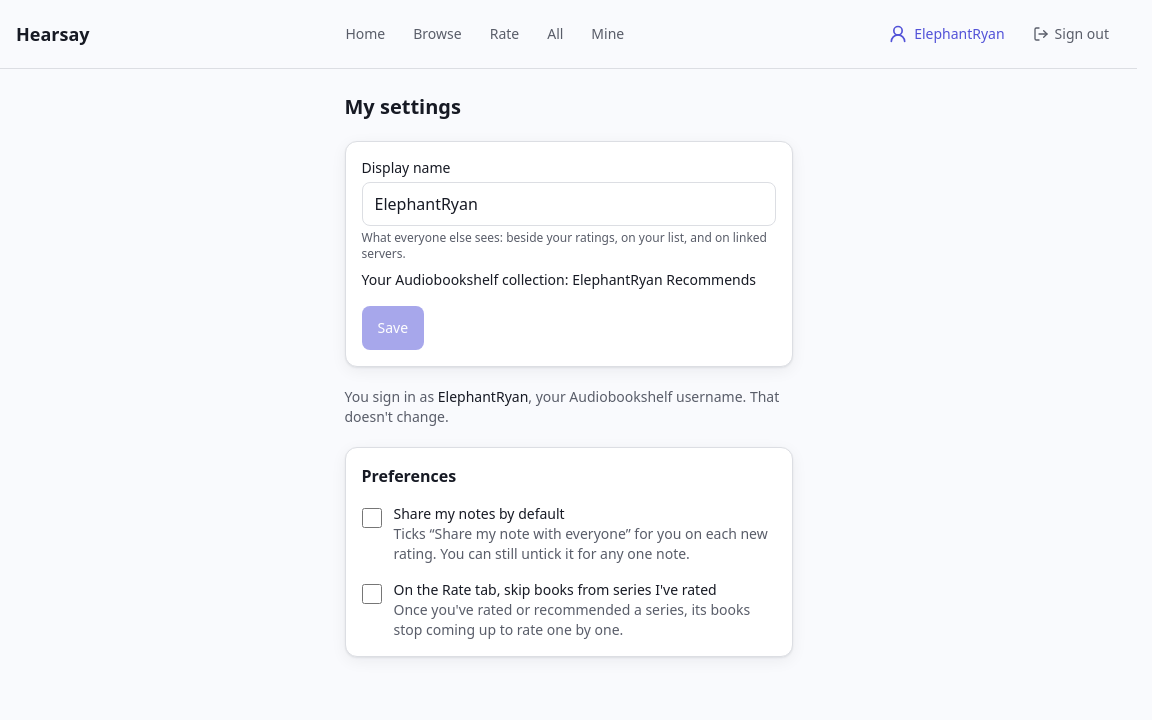
the settings page › changes the name everyone sees, and shows the collection it names
Expected: the button "Save" is disabled, [362,306,424,350]
Replace the text in the field labelled "Display name" with "Ryan" at (568, 204), box [362,182,776,226]
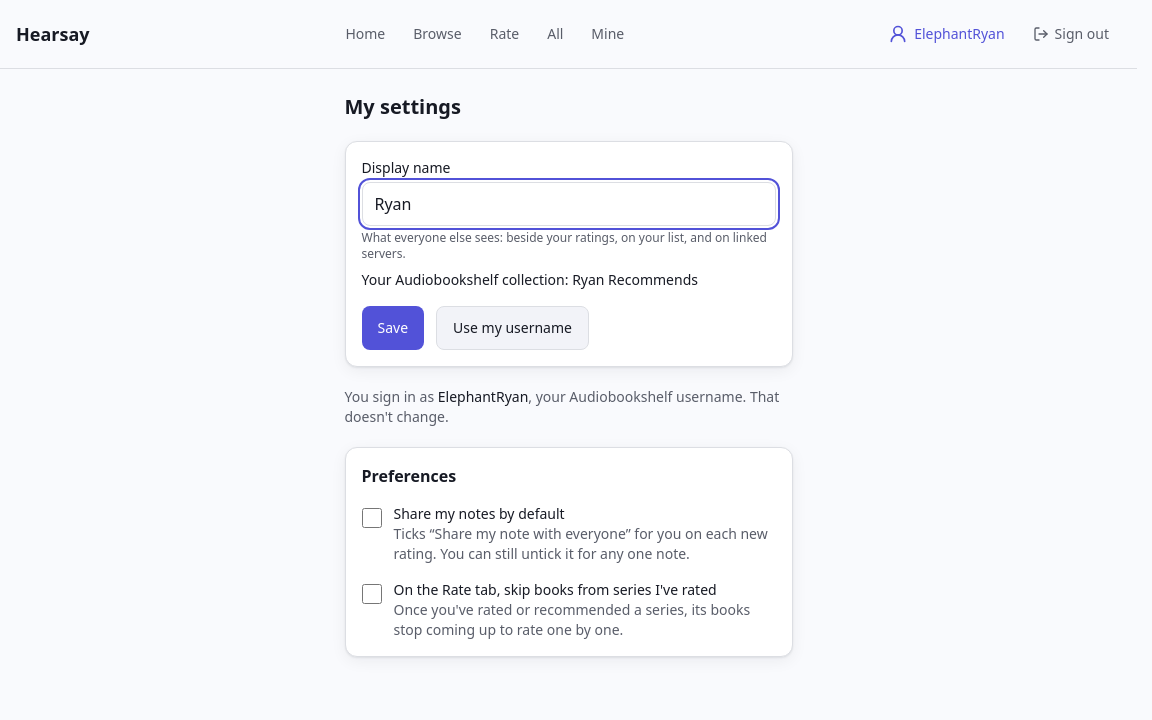
Now the text "Ryan Recommends" is shown, box [572,270,698,289]
Click the button "Save" at (393, 328), box [362,306,424,350]
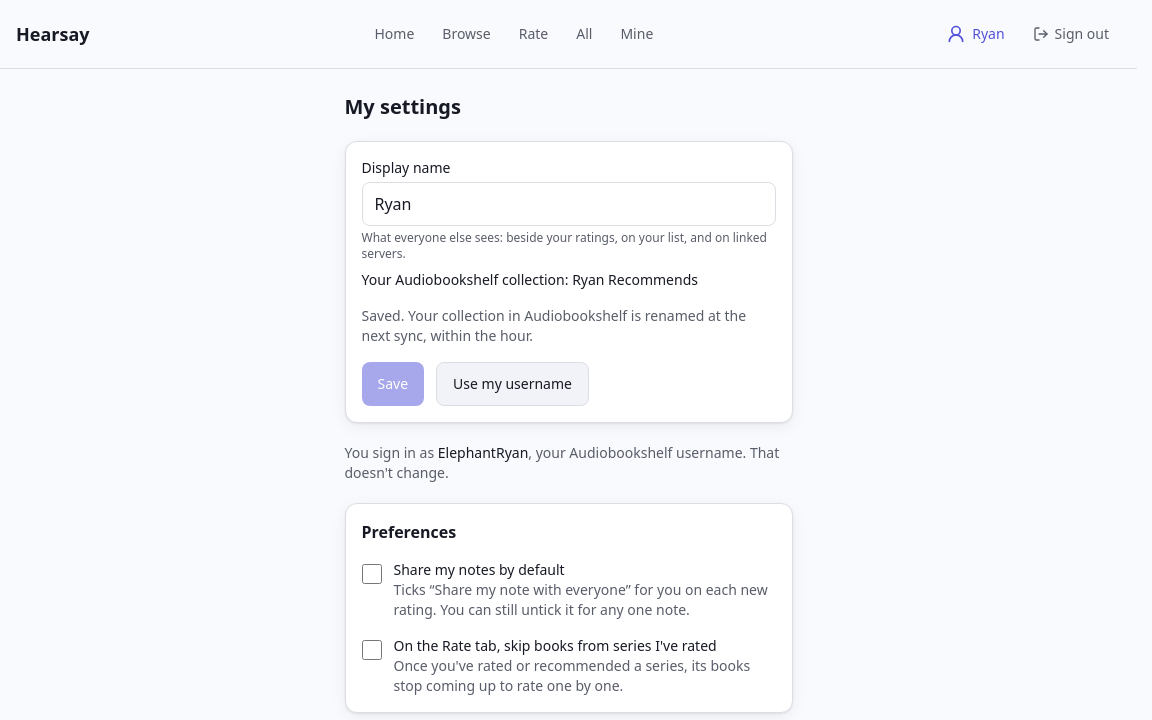
Expected: the text "You sign in as" shows "ElephantRyan", [438,443,528,462]
Now the text "Saved." is shown, box [362,306,746,345]
Now the link with aria-label "My settings" reads "Ryan", box [946,24,1005,44]
